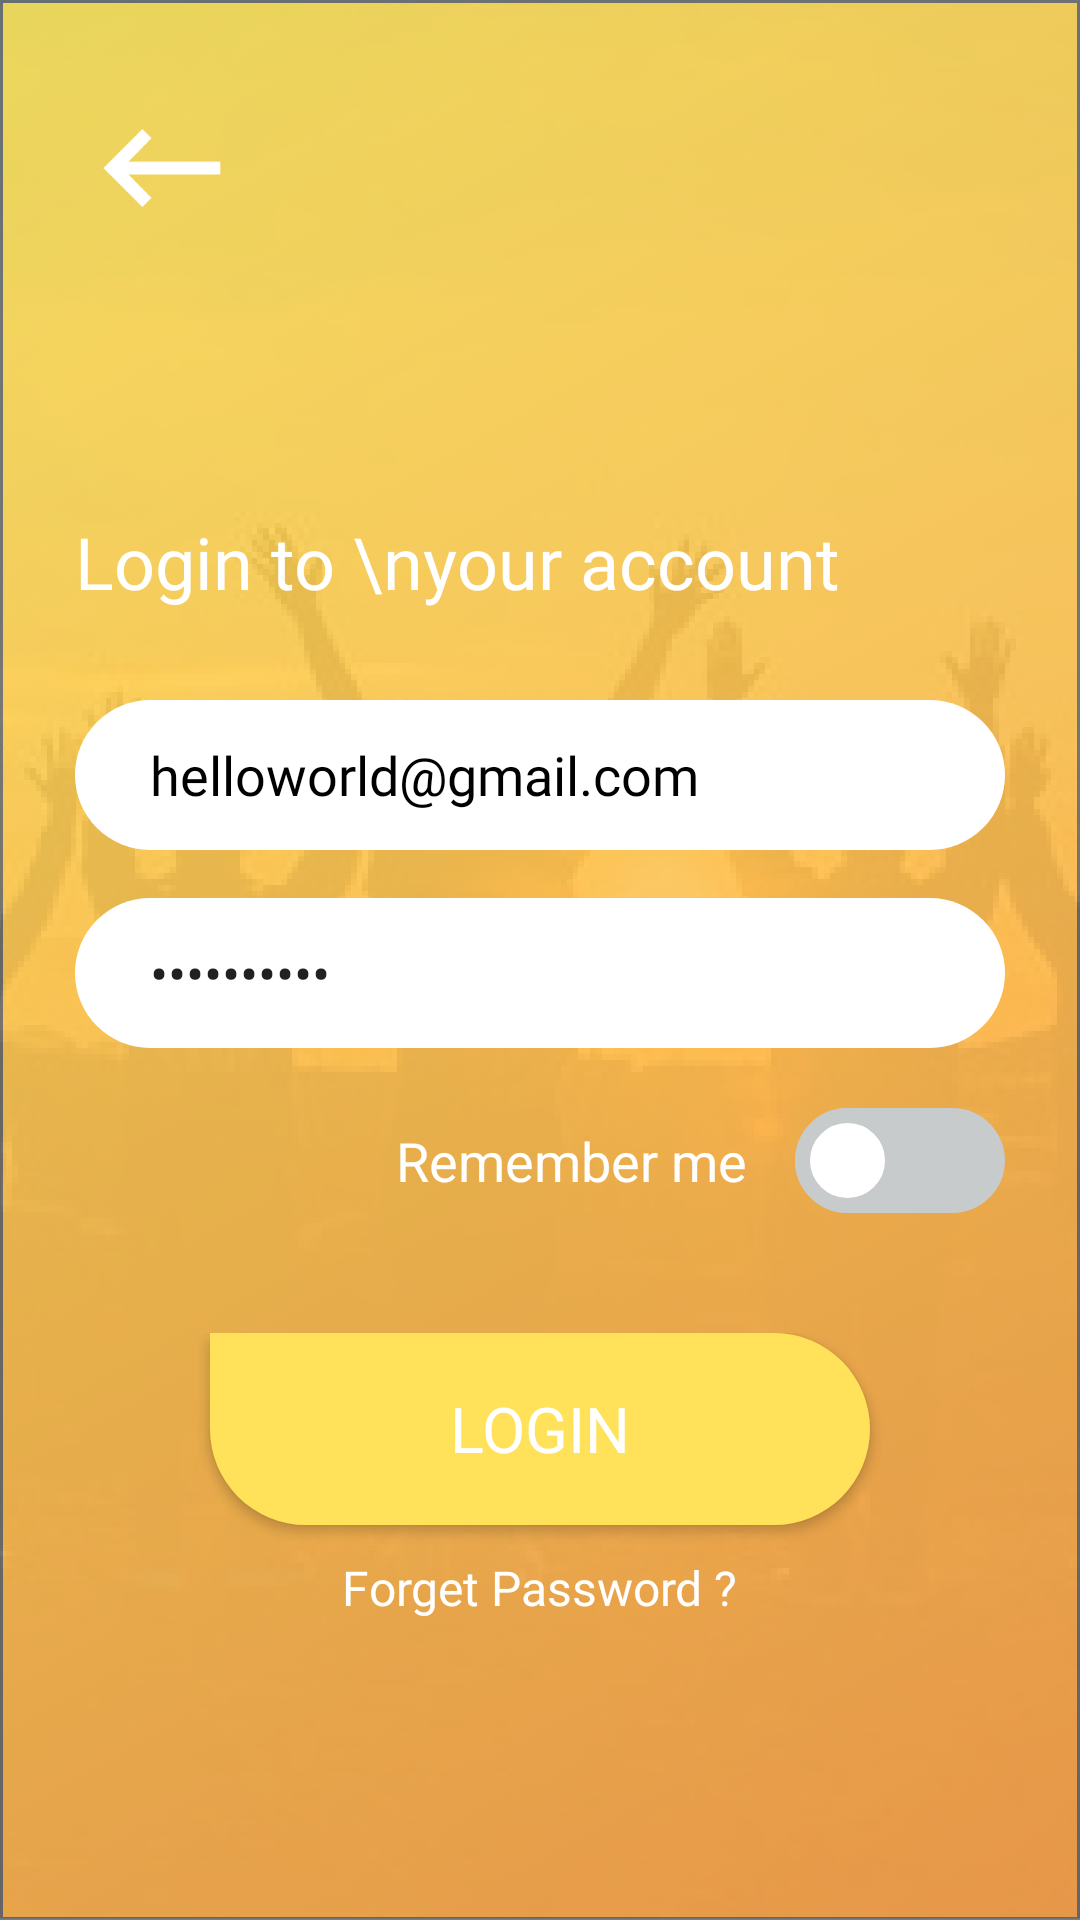

Icons on this 1080 x 1920 Android screen, each with the point to tap as point (x, y):
login back arrow: point (162, 168)
